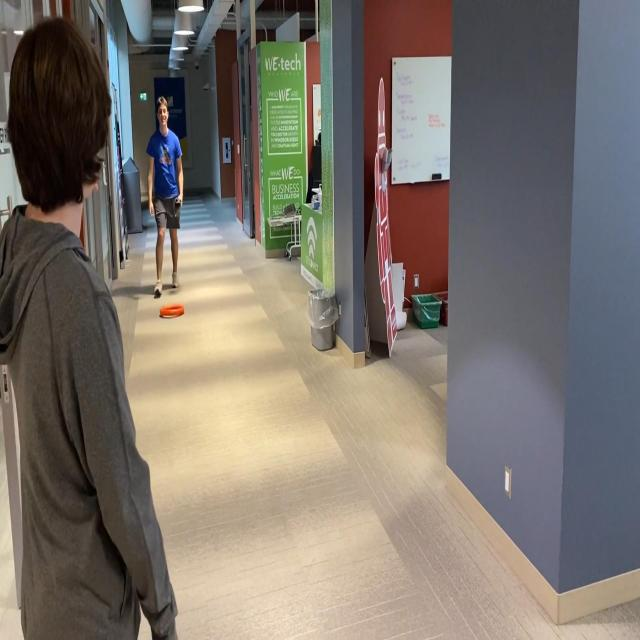note: (159, 303, 185, 319)
